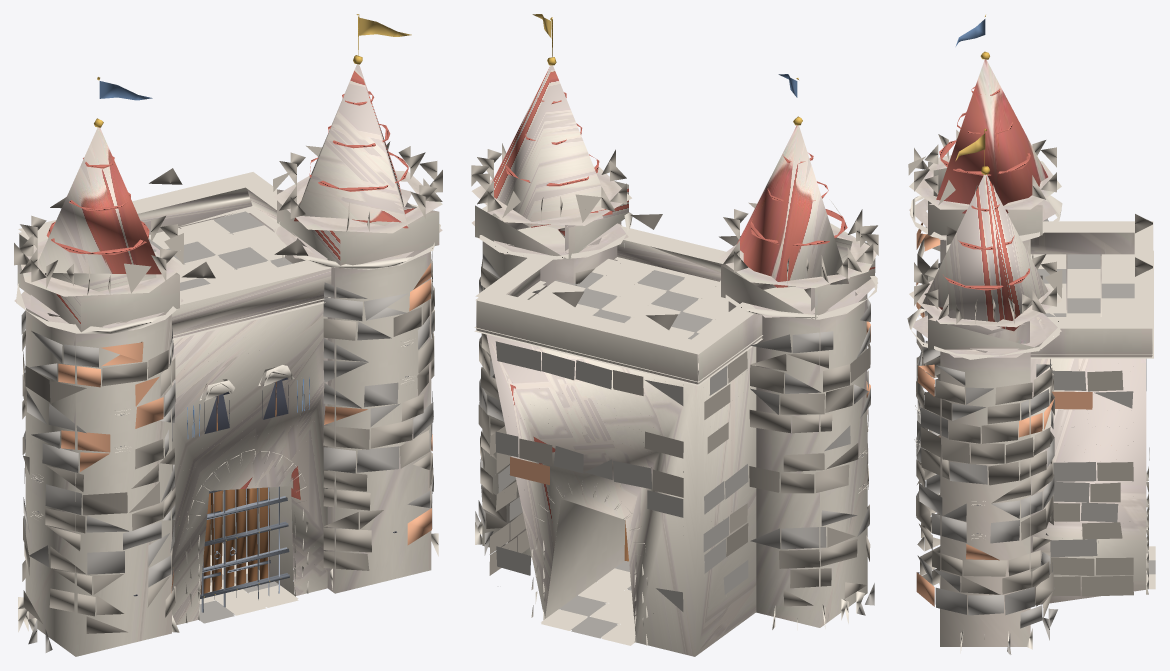
3 renders of one model, left to right at view 1: azimuth 30°, elevation 25°; view 2: azimuth 150°, elevation 25°; view 3: azimuth 270°, elevation 25°, orthographic. The views are drawn at different scales.
Visible parts, largest first — view 1: gatehouse_body, gatehouse_stonework, gatehouse_masonry, gatehouse_trim, gatehouse_gate_right, gatehouse_details, gatehouse_portcullis, gatehouse_gate_left; view 2: gatehouse_body, gatehouse_stonework, gatehouse_masonry, gatehouse_trim, gatehouse_details; view 3: gatehouse_body, gatehouse_stonework, gatehouse_masonry, gatehouse_trim, gatehouse_details.
Part boxes in pixels (x1=…): gatehouse_body: x1=14, y1=64, x2=442, y2=656; gatehouse_stonework: x1=21, y1=251, x2=434, y2=633; gatehouse_masonry: x1=14, y1=141, x2=442, y2=652; gatehouse_trim: x1=16, y1=14, x2=440, y2=333; gatehouse_gate_right: x1=223, y1=487, x2=270, y2=587; gatehouse_details: x1=30, y1=340, x2=431, y2=622; gatehouse_portcullis: x1=200, y1=486, x2=289, y2=612; gatehouse_gate_left: x1=200, y1=490, x2=222, y2=594; gatehouse_body: x1=471, y1=65, x2=877, y2=656; gatehouse_stonework: x1=478, y1=243, x2=870, y2=616; gatehouse_masonry: x1=471, y1=143, x2=878, y2=645; gatehouse_trim: x1=478, y1=14, x2=877, y2=319; gatehouse_details: x1=531, y1=447, x2=868, y2=645; gatehouse_body: x1=909, y1=59, x2=1152, y2=646; gatehouse_stonework: x1=916, y1=218, x2=1148, y2=628; gatehouse_masonry: x1=908, y1=130, x2=1155, y2=654; gatehouse_trim: x1=907, y1=15, x2=1062, y2=359; gatehouse_details: x1=914, y1=283, x2=1149, y2=594.
Bounding box in the file's own units: 13.17 × 17.03 × 7.71.
Materials: 14 (1 with a texture image).
